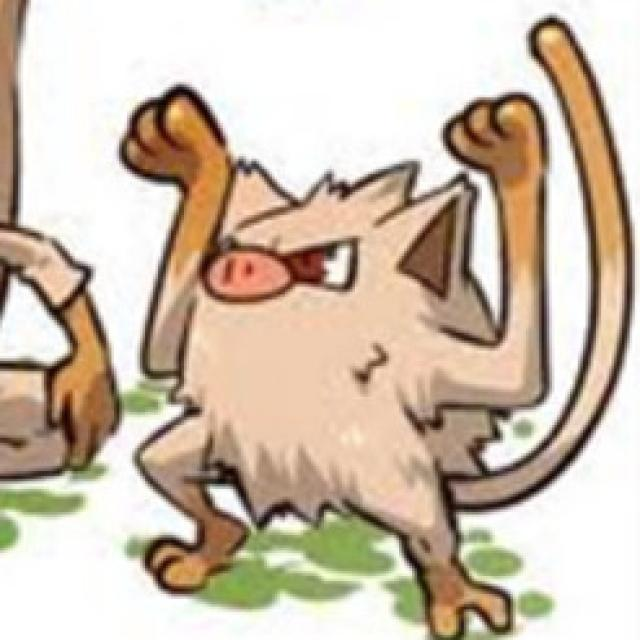Mankey: (123, 85, 545, 640)
